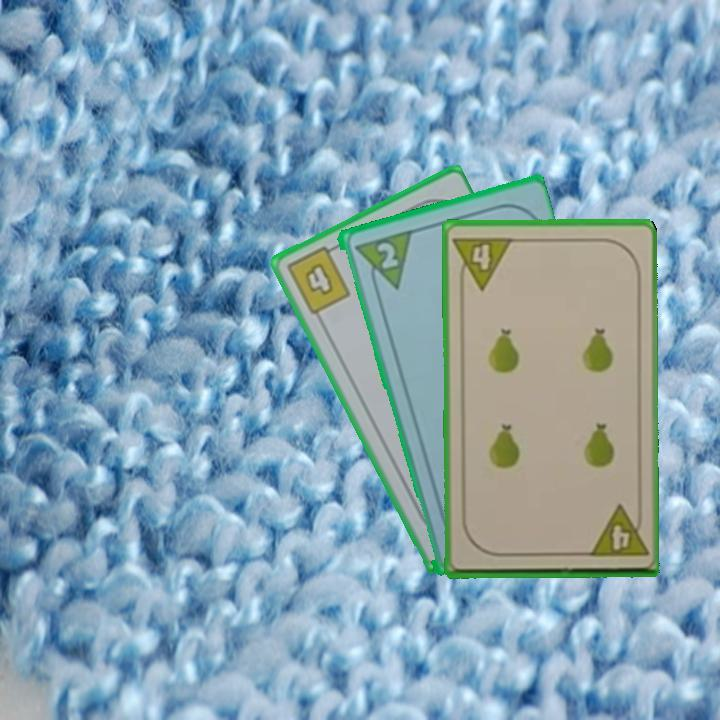2p: (372, 238, 401, 272)
4b: (282, 240, 354, 318)
4p: (450, 232, 515, 293), (584, 502, 649, 560)
